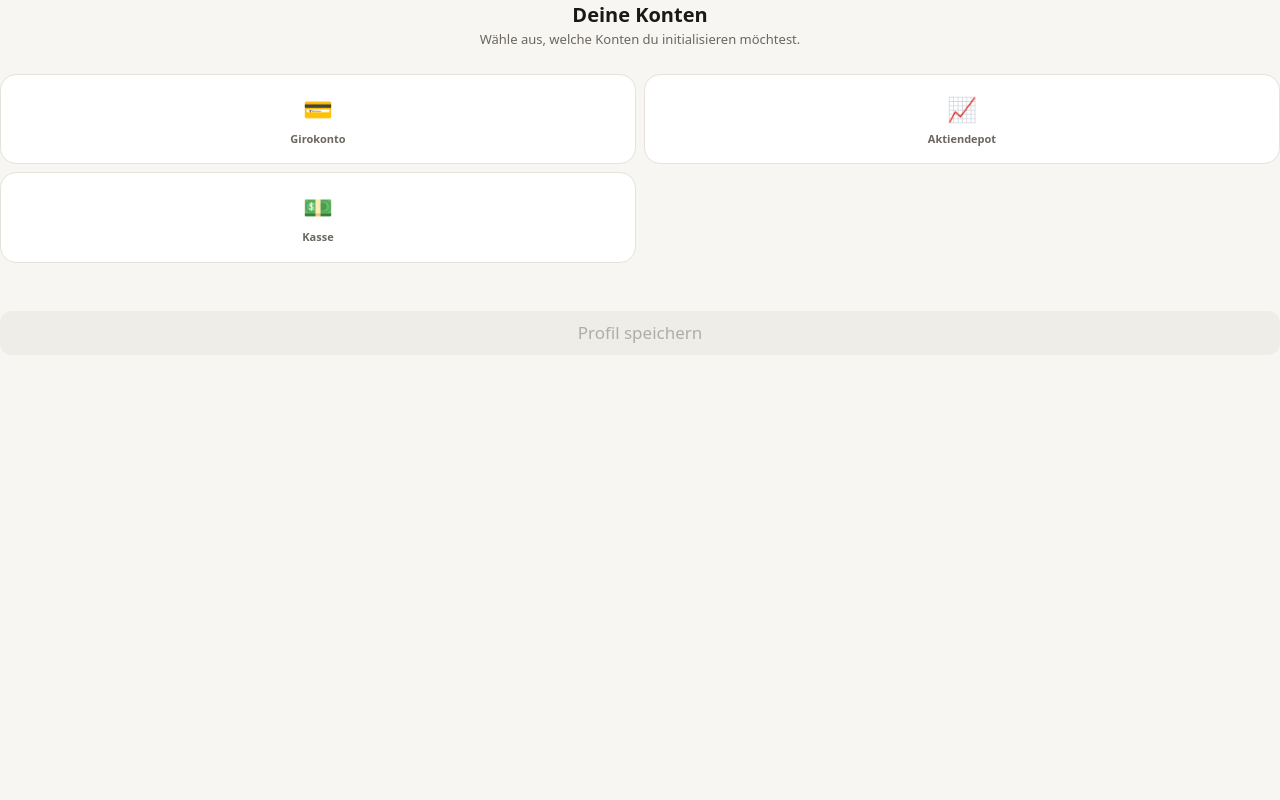
it: ProfileCreationForm - Flow › opens the form directly when clicking a tile
Open the modal for Girokonto
Click the text "Girokonto" at (318, 139), box [290,130,346,147]
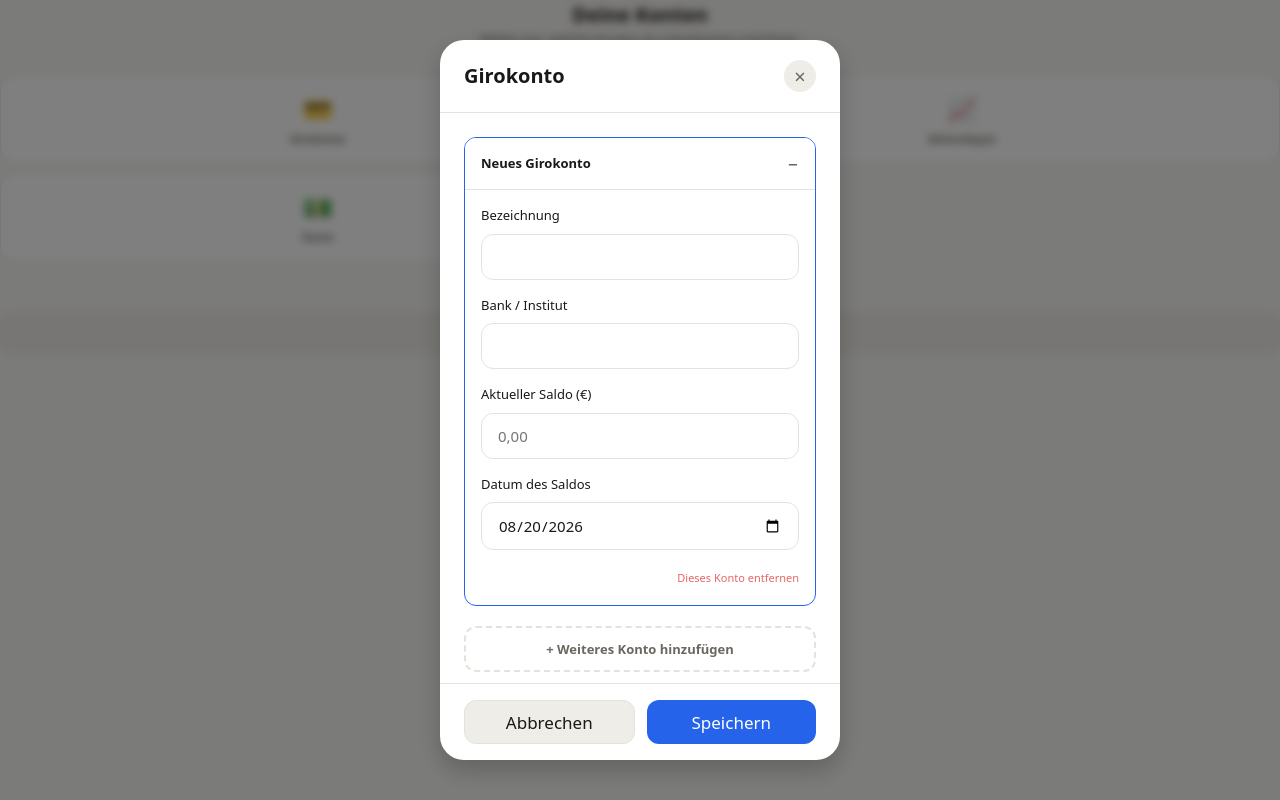
Check: the field labelled "Bezeichnung" is shown, box [481,234,799,280]
